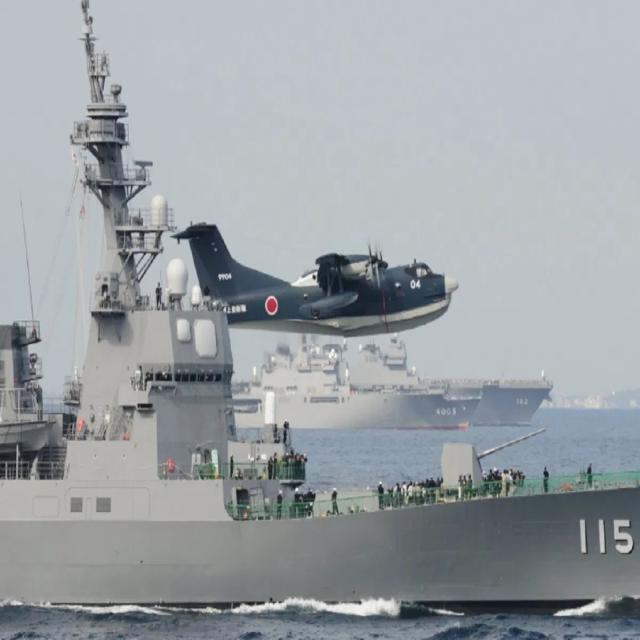MIL_Plane: (170, 220, 458, 338)
